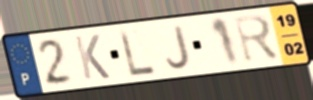1: (208, 15, 242, 68)
2: (37, 37, 76, 89)
J: (164, 23, 192, 71)
K: (72, 33, 113, 82)
L: (117, 27, 158, 79)
R: (231, 12, 283, 66)
